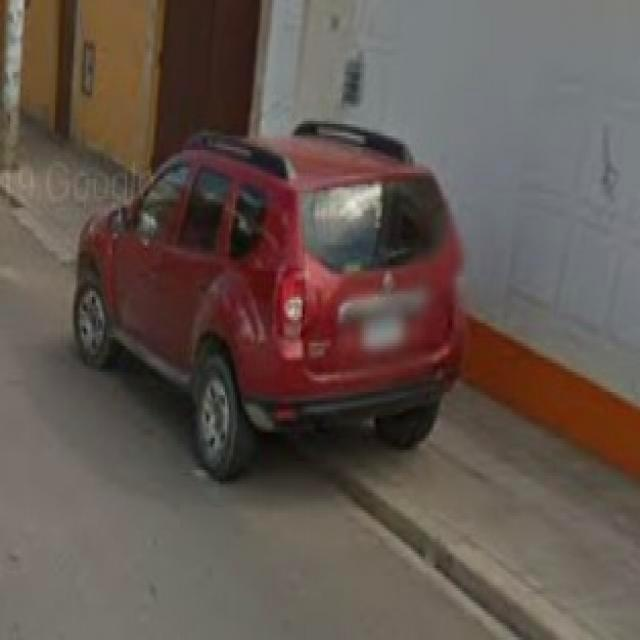Car: (68, 114, 464, 484)
